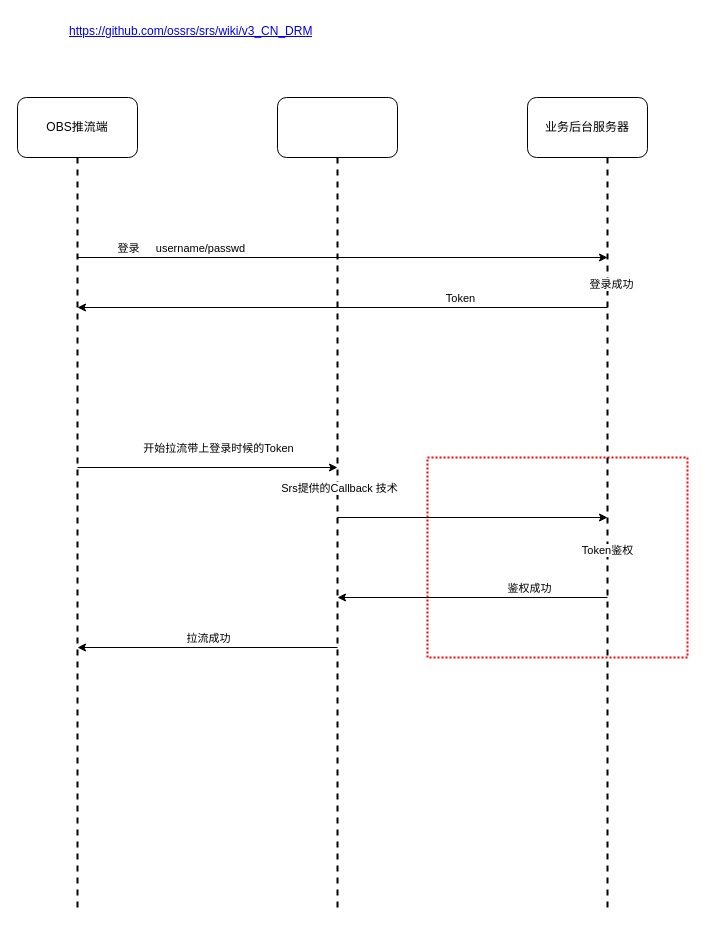
Image size: 706x926. Some labels were removed from this diagram. Each missing label, with the centre of its shape:
SRS 流媒体服务器: the point at 337,127
发送Token: the point at 557,557
